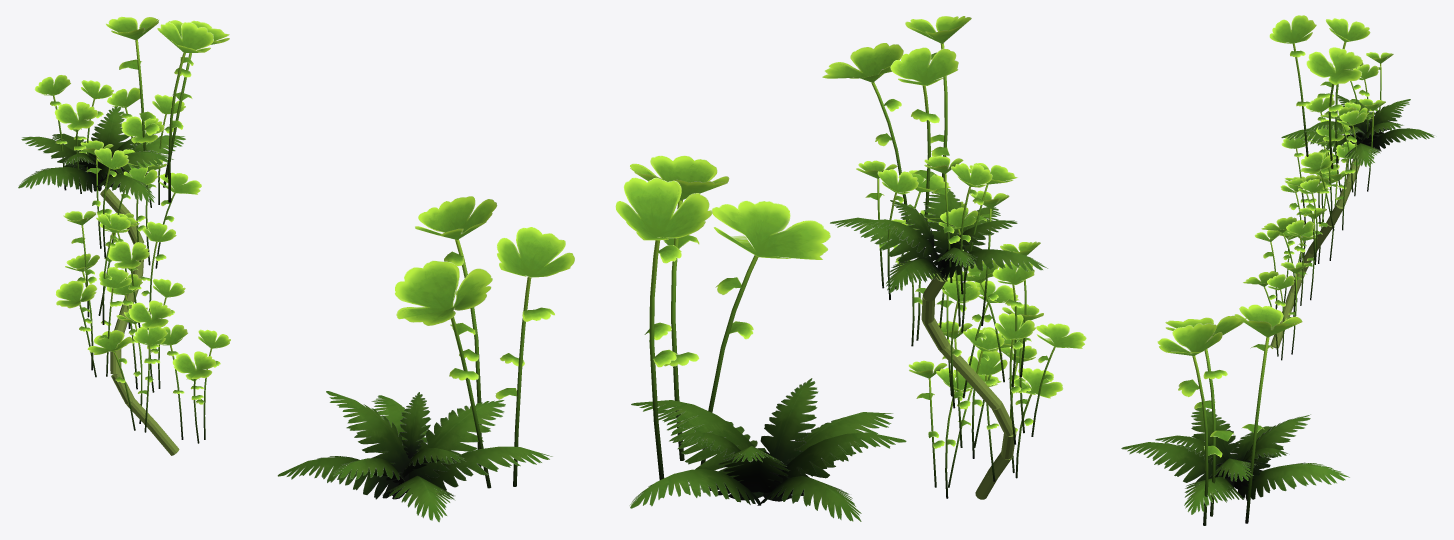
File: Broken_Cargo_Crate_Greenery.glb
3 renders of one model, left to right at view 1: azimuth 30°, elevation 25°; view 2: azimuth 150°, elevation 25°; view 3: azimuth 270°, elevation 25°, orthographic. The views are drawn at different scales.
Visible parts, largest first — view 1: Patch_01, Patch_00; view 2: Patch_01, Patch_00; view 3: Patch_01, Patch_00.
Boxes of the visible parts, box(x1,y1,x2,y2) form: Patch_01: box(18, 16, 230, 455); Patch_00: box(277, 196, 574, 522); Patch_01: box(822, 16, 1086, 499); Patch_00: box(615, 155, 906, 521); Patch_01: box(1243, 15, 1434, 360); Patch_00: box(1121, 304, 1349, 525).
Bounding box in the file's own units: 1.37 × 1.4 × 1.03.
3 materials, 2 textured.
